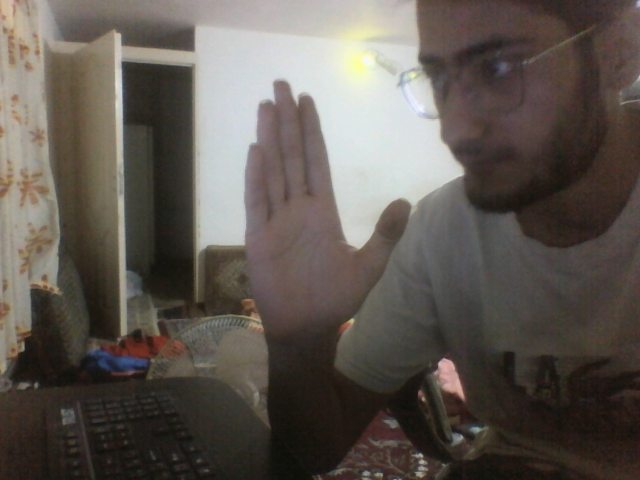sorat: (406, 2, 640, 214)
taslim: (242, 77, 410, 342)
